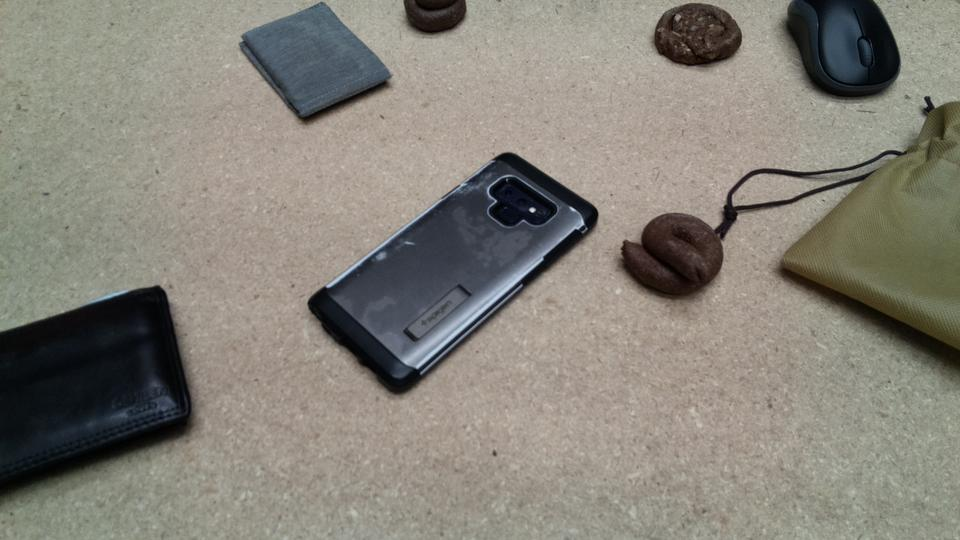poop: (621, 210, 726, 298), (653, 1, 746, 68), (402, 1, 469, 35)
